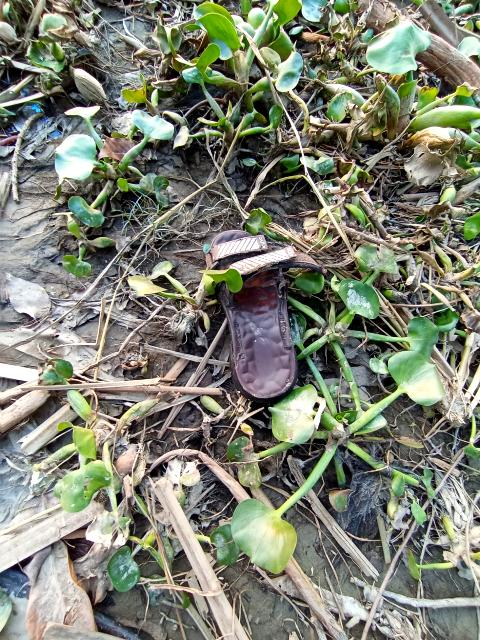sandal: (211, 218, 304, 398)
